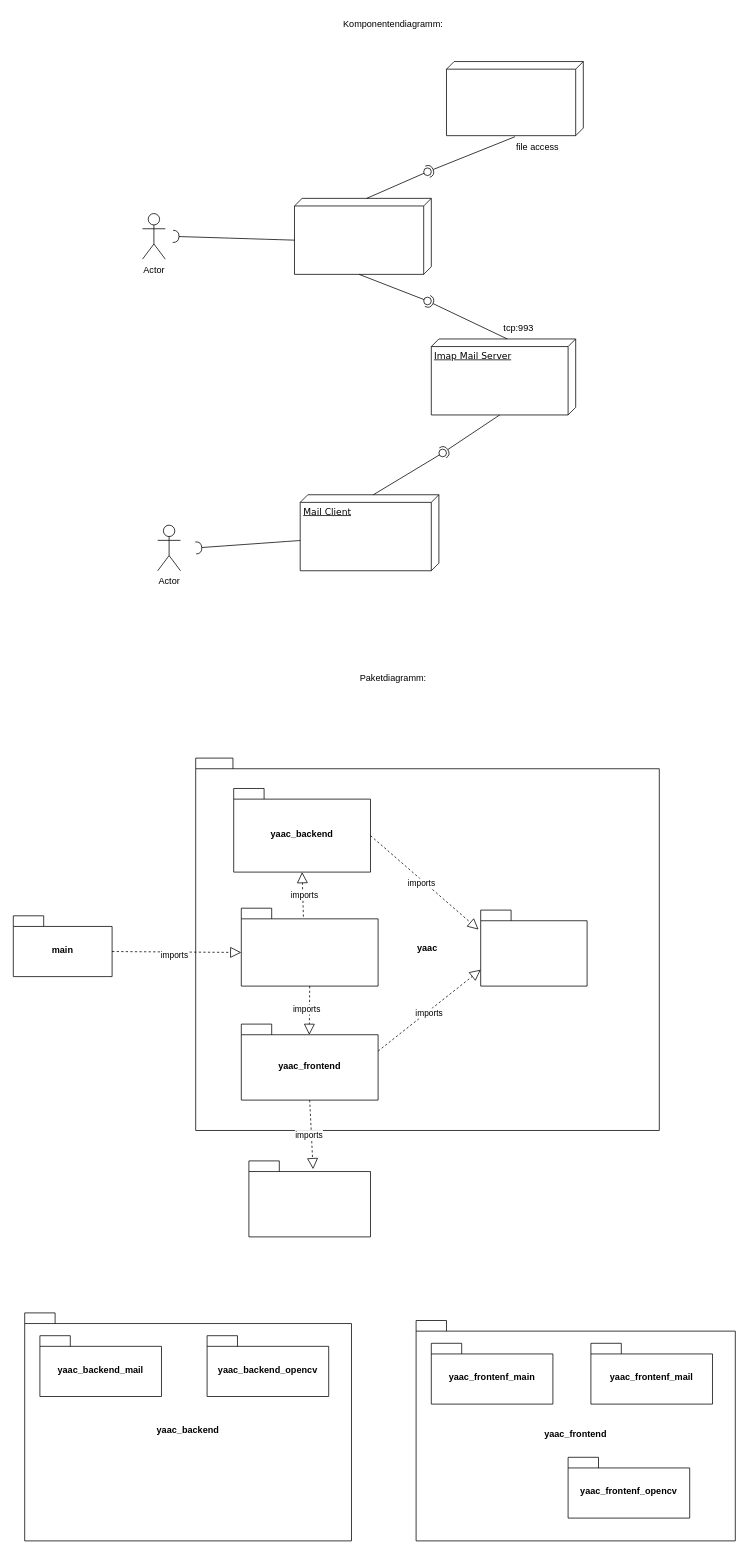
Image size: 749x1554. Some labels were removed from this diagram. Each missing label, with the box of its shape:
File System: (446, 61, 583, 136)
ressource_manager: (248, 1160, 370, 1237)
YAAC Applikation: (294, 198, 431, 274)
yaac_mvvvm: (241, 907, 378, 986)
yaac_shared: (480, 909, 587, 986)
